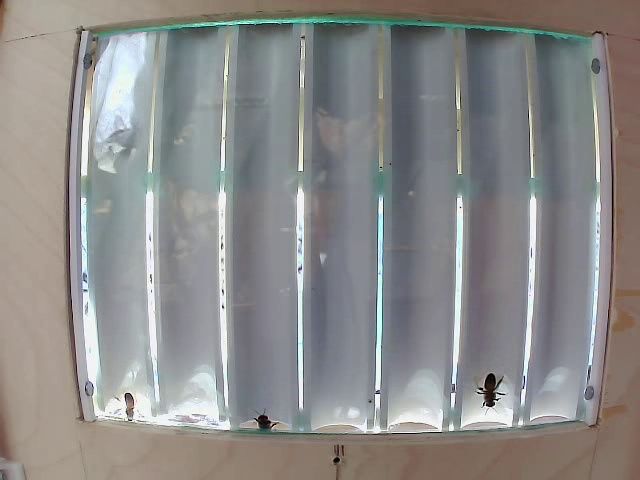bee: (471, 368, 514, 407)
